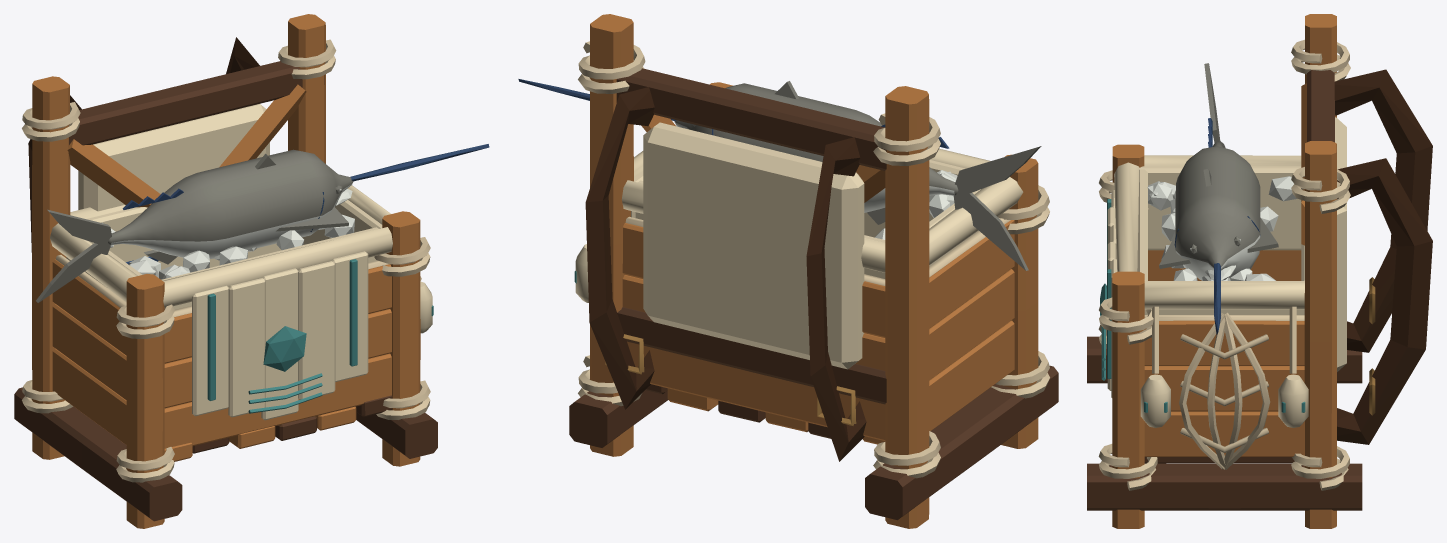
File: prop_trade_pack_swordfish_a.glb
3 views of the same model, side by side, from view 1: azimuth 30°, elevation 25°; view 2: azimuth 150°, elevation 25°; view 3: azimuth 270°, elevation 25° (orthographic). The views are drawn at different scales.
Visible parts, largest first — view 1: prop_trade_pack_swordfish_a_LOD0; view 2: prop_trade_pack_swordfish_a_LOD0; view 3: prop_trade_pack_swordfish_a_LOD0.
Boxes of the visible parts, x1,y1,x2,y2 form: prop_trade_pack_swordfish_a_LOD0: (14, 14, 489, 528); prop_trade_pack_swordfish_a_LOD0: (518, 14, 1058, 528); prop_trade_pack_swordfish_a_LOD0: (1087, 14, 1432, 528).
Size of what is drawn, in the model's own units: 1.22 by 0.96 by 0.8041.
